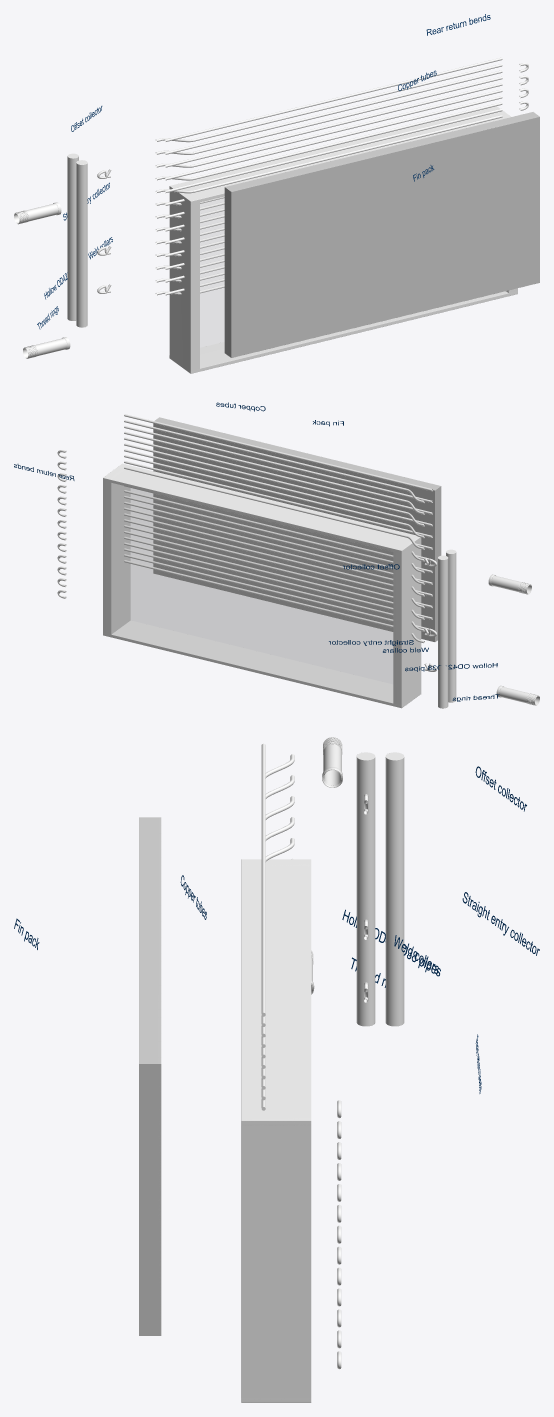
The model's file is model_exploded.glb.
3 renders of one model, top to bottom at view 1: azimuth 30°, elevation 25°; view 2: azimuth 150°, elevation 25°; view 3: azimuth 270°, elevation 25°, orthographic. The views are drawn at different scales.
Visible parts, largest first — view 1: v2_3_exploded_fin_pack_copy, v2_3_exploded_heat_exchanger_body_copy, v2_3_exploded_service_front_flange_40mm_copy, v2_3_exploded_top_flange_13mm_copy, v2_3_exploded_bottom_flange_13mm_copy, v2_3_exploded_straight_entry_collector_copy, v2_3_exploded_offset_collector_copy, v2_3_exploded_straight_tube_pass_17_copy, v2_3_exploded_straight_tube_pass_22_copy, v2_3_exploded_straight_tube_pass_24_copy, v2_3_exploded_straight_tube_pass_19_copy, v2_3_exploded_straight_tube_pass_21_copy (+8 smaller); view 2: v2_3_exploded_heat_exchanger_body_copy, v2_3_exploded_fin_pack_copy, v2_3_exploded_bottom_flange_13mm_copy, v2_3_exploded_top_flange_13mm_copy, v2_3_exploded_service_front_flange_40mm_copy, v2_3_exploded_rear_flange_40mm_copy, v2_3_exploded_offset_collector_copy, v2_3_exploded_straight_entry_collector_copy, v2_3_exploded_straight_tube_pass_21_copy, v2_3_exploded_straight_tube_pass_19_copy, v2_3_exploded_straight_tube_pass_22_copy, v2_3_exploded_straight_tube_pass_18_copy (+22 smaller); view 3: v2_3_exploded_rear_flange_40mm_copy, v2_3_exploded_top_flange_13mm_copy, v2_3_exploded_heat_exchanger_body_copy, v2_3_exploded_fin_pack_copy, v2_3_exploded_offset_collector_copy, v2_3_exploded_straight_entry_collector_copy, v2_3_exploded_fin_lamella_155_copy, v2_3_exploded_straight_tube_pass_26_copy.
Boxes of the visible parts, x1,y1,x2,y2 form: v2_3_exploded_fin_pack_copy: (224, 112, 539, 357); v2_3_exploded_heat_exchanger_body_copy: (180, 107, 517, 372); v2_3_exploded_service_front_flange_40mm_copy: (169, 184, 199, 373); v2_3_exploded_top_flange_13mm_copy: (169, 106, 509, 204); v2_3_exploded_bottom_flange_13mm_copy: (169, 291, 517, 373); v2_3_exploded_straight_entry_collector_copy: (76, 160, 87, 327); v2_3_exploded_offset_collector_copy: (67, 153, 78, 320); v2_3_exploded_straight_tube_pass_17_copy: (193, 115, 502, 192); v2_3_exploded_straight_tube_pass_22_copy: (193, 83, 502, 160); v2_3_exploded_straight_tube_pass_24_copy: (193, 70, 502, 147); v2_3_exploded_straight_tube_pass_19_copy: (193, 102, 502, 179); v2_3_exploded_straight_tube_pass_21_copy: (193, 89, 502, 166); v2_3_exploded_heat_exchanger_body_copy: (103, 464, 410, 705); v2_3_exploded_fin_pack_copy: (153, 417, 440, 641); v2_3_exploded_bottom_flange_13mm_copy: (103, 620, 416, 708); v2_3_exploded_top_flange_13mm_copy: (103, 465, 419, 553); v2_3_exploded_service_front_flange_40mm_copy: (393, 534, 421, 705); v2_3_exploded_rear_flange_40mm_copy: (103, 463, 130, 636); v2_3_exploded_offset_collector_copy: (438, 556, 448, 708); v2_3_exploded_straight_entry_collector_copy: (446, 549, 456, 702); v2_3_exploded_straight_tube_pass_21_copy: (124, 443, 406, 513); v2_3_exploded_straight_tube_pass_19_copy: (124, 455, 406, 525); v2_3_exploded_straight_tube_pass_22_copy: (124, 437, 406, 508); v2_3_exploded_straight_tube_pass_18_copy: (124, 461, 406, 531); v2_3_exploded_rear_flange_40mm_copy: (241, 1113, 311, 1402); v2_3_exploded_top_flange_13mm_copy: (241, 859, 311, 1125); v2_3_exploded_heat_exchanger_body_copy: (242, 939, 310, 1401); v2_3_exploded_fin_pack_copy: (139, 817, 161, 1335); v2_3_exploded_offset_collector_copy: (385, 752, 404, 1026); v2_3_exploded_straight_entry_collector_copy: (356, 752, 375, 1026); v2_3_exploded_fin_lamella_155_copy: (139, 1064, 161, 1335); v2_3_exploded_straight_tube_pass_26_copy: (261, 766, 265, 1016).
Size of the model in its own units: 2203 by 1038 by 1182.
